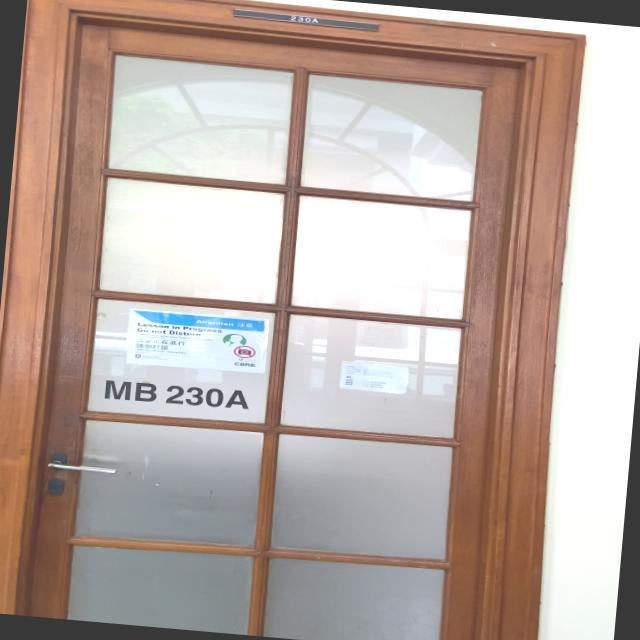room230A: (231, 7, 380, 31)
room230AWindow: (99, 374, 255, 414)
